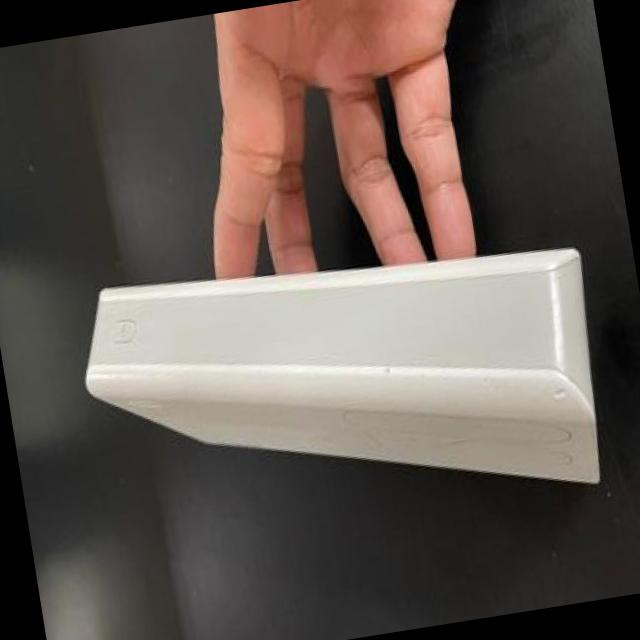portable-charger: (61, 206, 635, 568)
